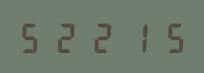five: (18, 20, 50, 53), (150, 20, 182, 53)
one: (117, 20, 149, 53)
two: (51, 20, 83, 53), (84, 20, 116, 53)
